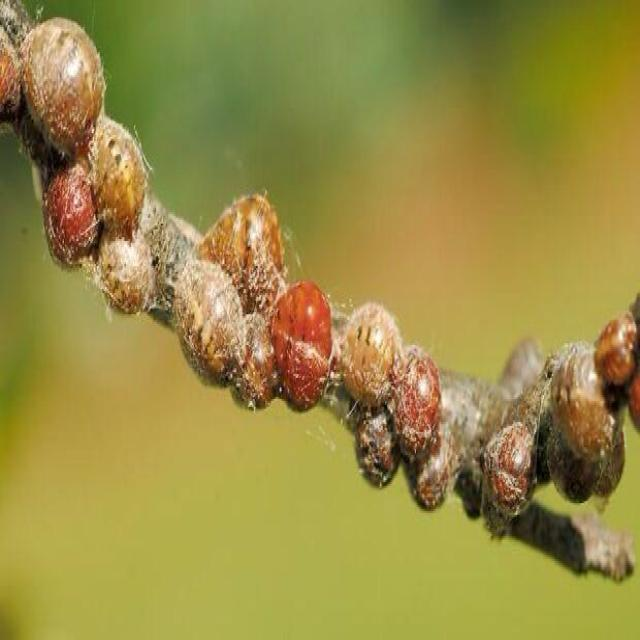Black Scale: (0, 0, 156, 318), (481, 293, 639, 530), (173, 191, 335, 416), (335, 303, 455, 519)
